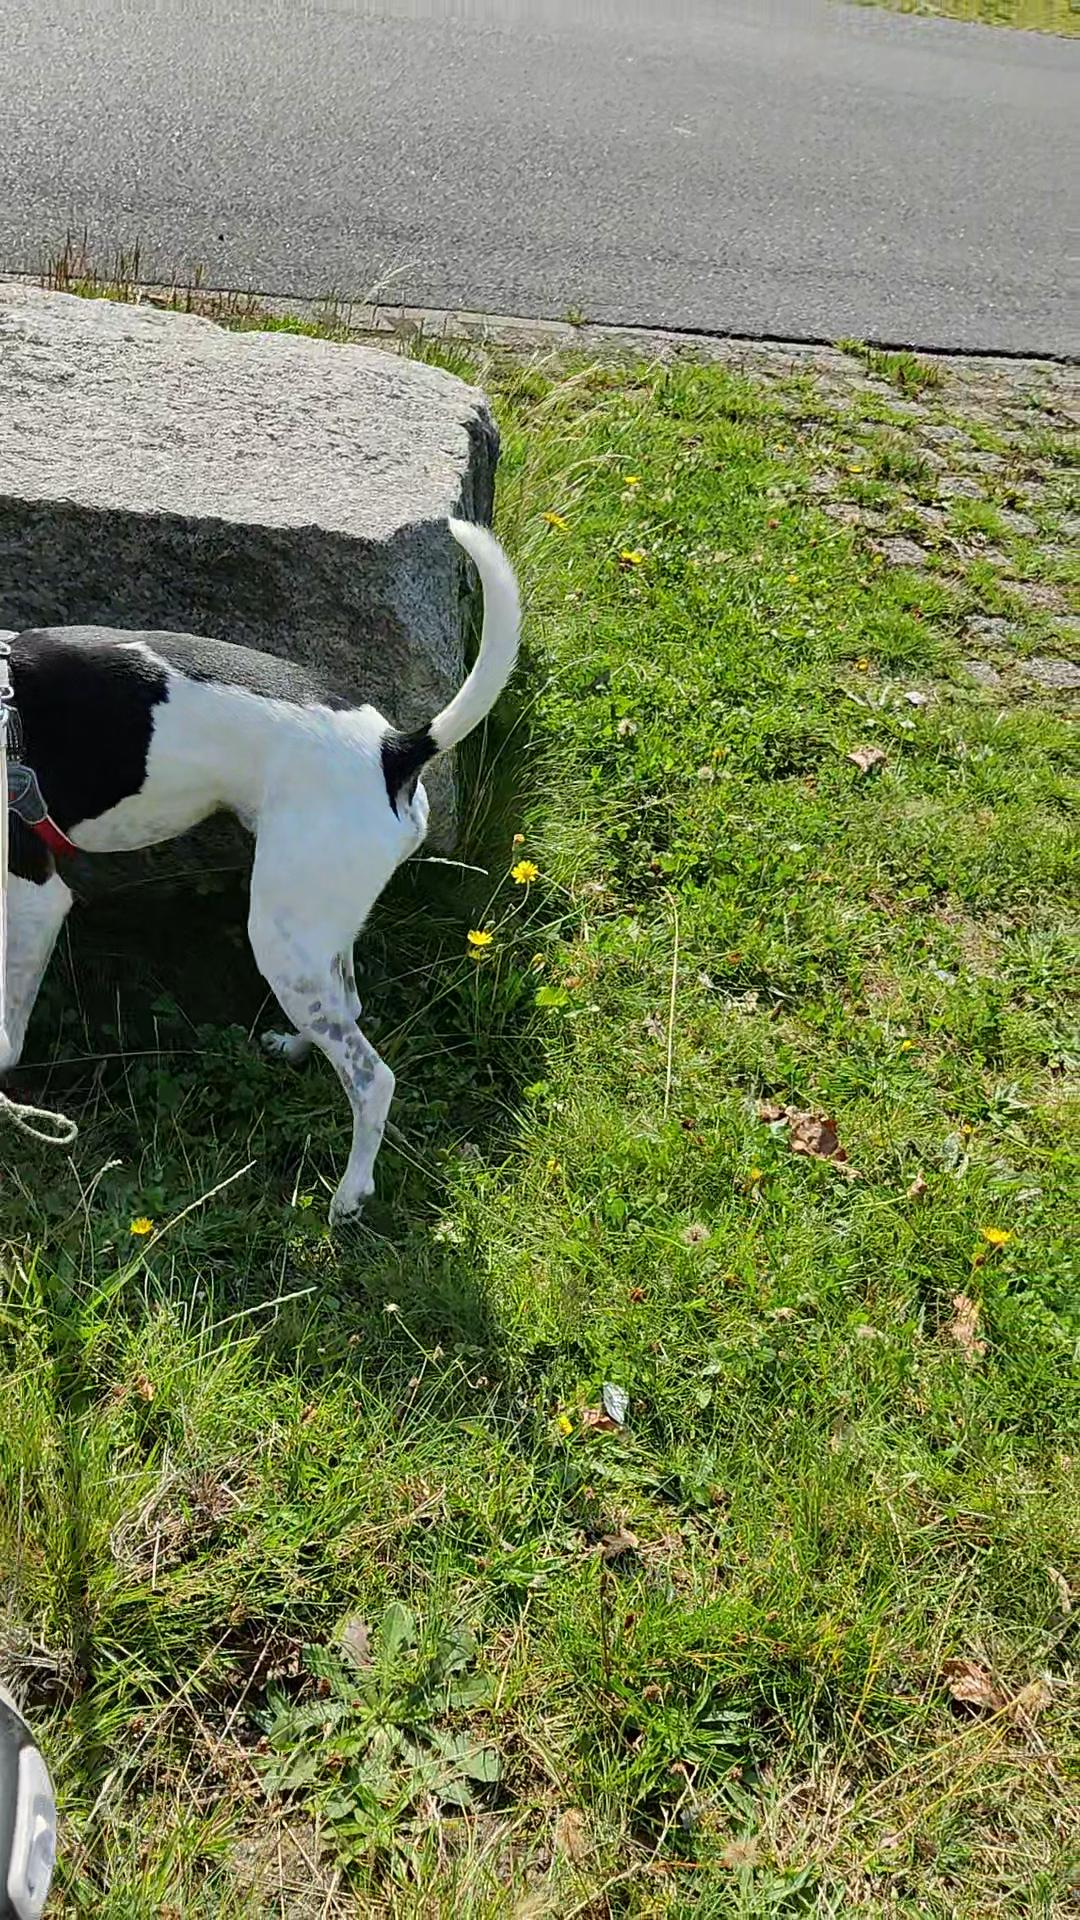Dog: (0, 495, 535, 1240)
